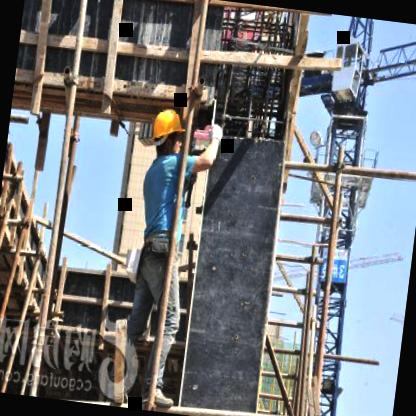helmet: (146, 103, 186, 159)
